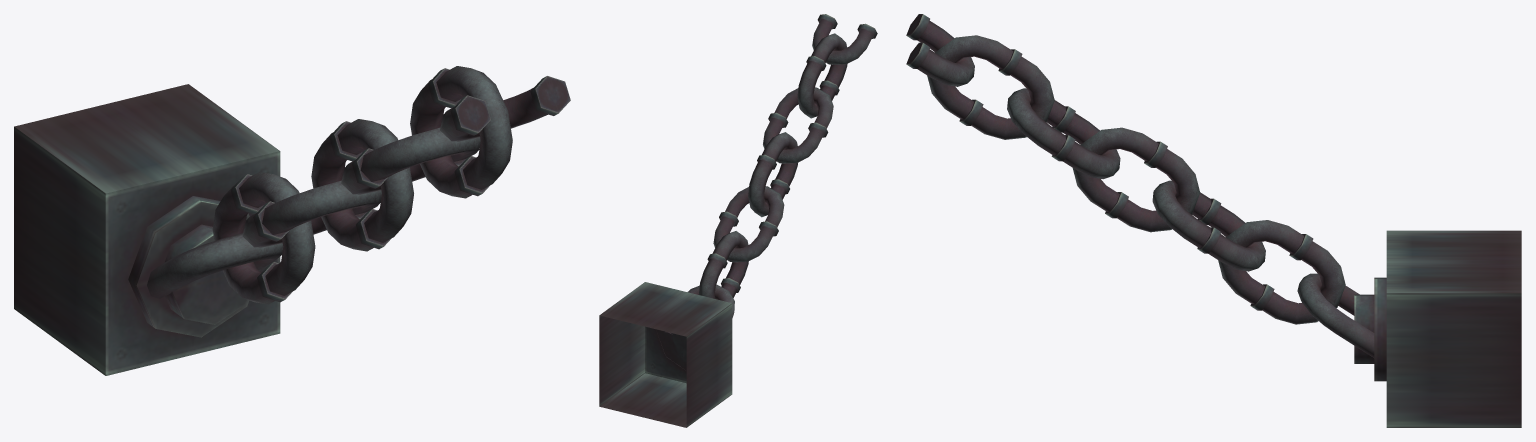
File: M11_B_tielian002.FBX
3 views of the same model, side by side, from view 1: azimuth 30°, elevation 25°; view 2: azimuth 150°, elevation 25°; view 3: azimuth 270°, elevation 25° (orthographic). The views are drawn at different scales.
Visible parts, largest first — view 1: M11_B_tielian002; view 2: M11_B_tielian002; view 3: M11_B_tielian002.
Part boxes in pixels (x1,y1,x2,y2): M11_B_tielian002: (14,66,570,375); M11_B_tielian002: (599,14,877,427); M11_B_tielian002: (906,14,1521,427).
Size of the model in its own units: 238 by 651 by 987.
